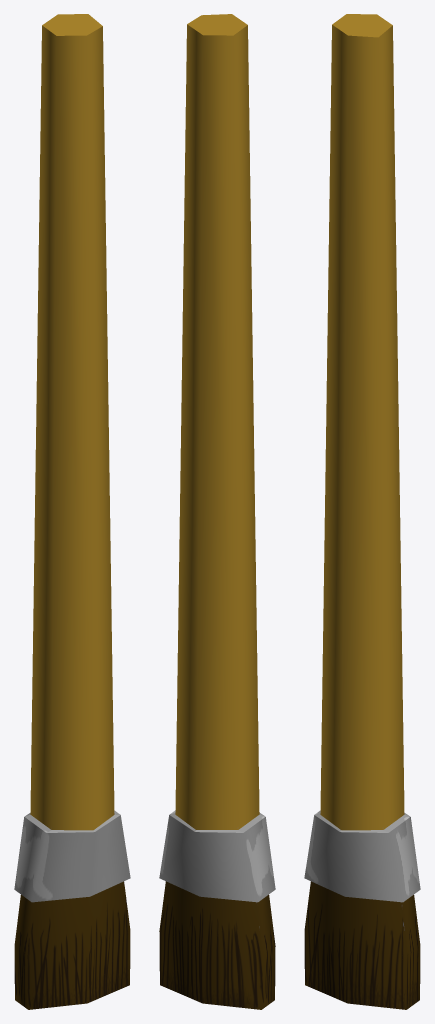
Rendered from Brush.fbx.
The picture shows the model from 3 angles, left to right: view 1: azimuth 30°, elevation 25°; view 2: azimuth 150°, elevation 25°; view 3: azimuth 330°, elevation 25°; orthographic projection.
Parts seen in each view (by area): view 1: 柱体; view 2: 柱体; view 3: 柱体.
Boxes of the visible parts, x1=… form: 柱体: x1=14, y1=14, x2=130, y2=1009; 柱体: x1=159, y1=14, x2=275, y2=1009; 柱体: x1=304, y1=14, x2=420, y2=1009.
Bounding box in the file's own units: 4.21 × 38.01 × 3.18.
1 material, 1 textured.
